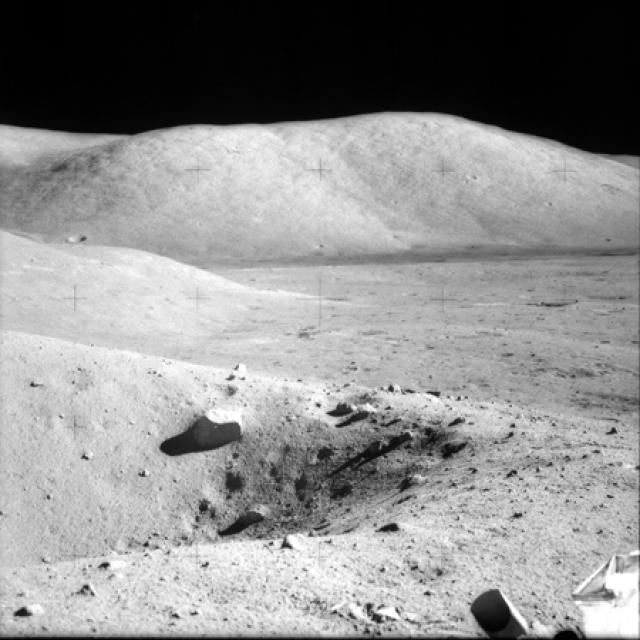artifact: (460, 519, 638, 638)
crater: (0, 337, 450, 557)
rock: (190, 396, 255, 449), (229, 494, 275, 525), (224, 356, 265, 385), (373, 517, 414, 539), (8, 600, 47, 621), (390, 468, 428, 489), (325, 394, 353, 416), (355, 400, 376, 420), (383, 380, 402, 397)
